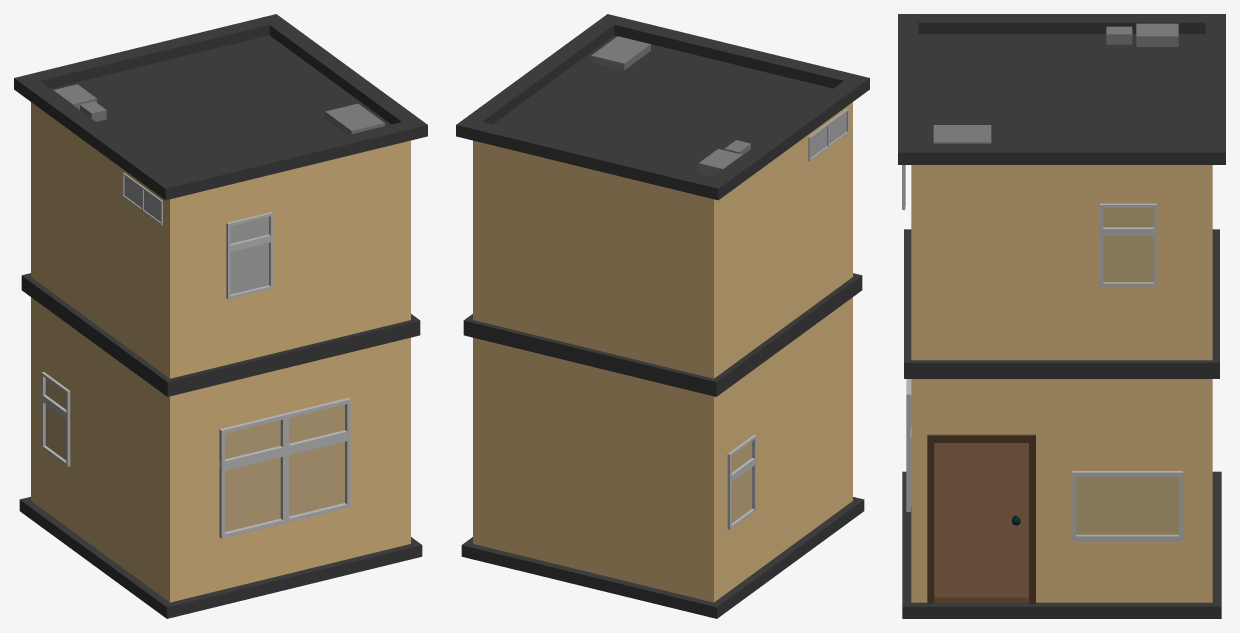
File: lowpolyhouse.gltf
3 views of the same model, side by side, from view 1: azimuth 30°, elevation 25°; view 2: azimuth 150°, elevation 25°; view 3: azimuth 270°, elevation 25° (orthographic). The views are drawn at different scales.
Visible parts, largest first — view 1: Cube; view 2: Cube; view 3: Cube.
Part boxes in pixels (x1=…): Cube: x1=14, y1=14, x2=427, y2=618; Cube: x1=456, y1=14, x2=869, y2=618; Cube: x1=898, y1=14, x2=1225, y2=618.
Size of the model in its own units: 8.69 by 13.68 by 8.69.
